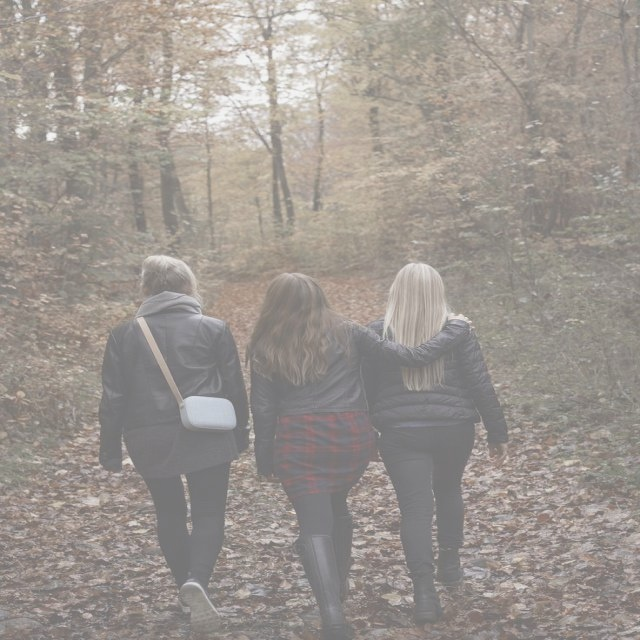pessoa: (241, 268, 471, 640), (96, 252, 250, 635), (359, 261, 506, 622)
